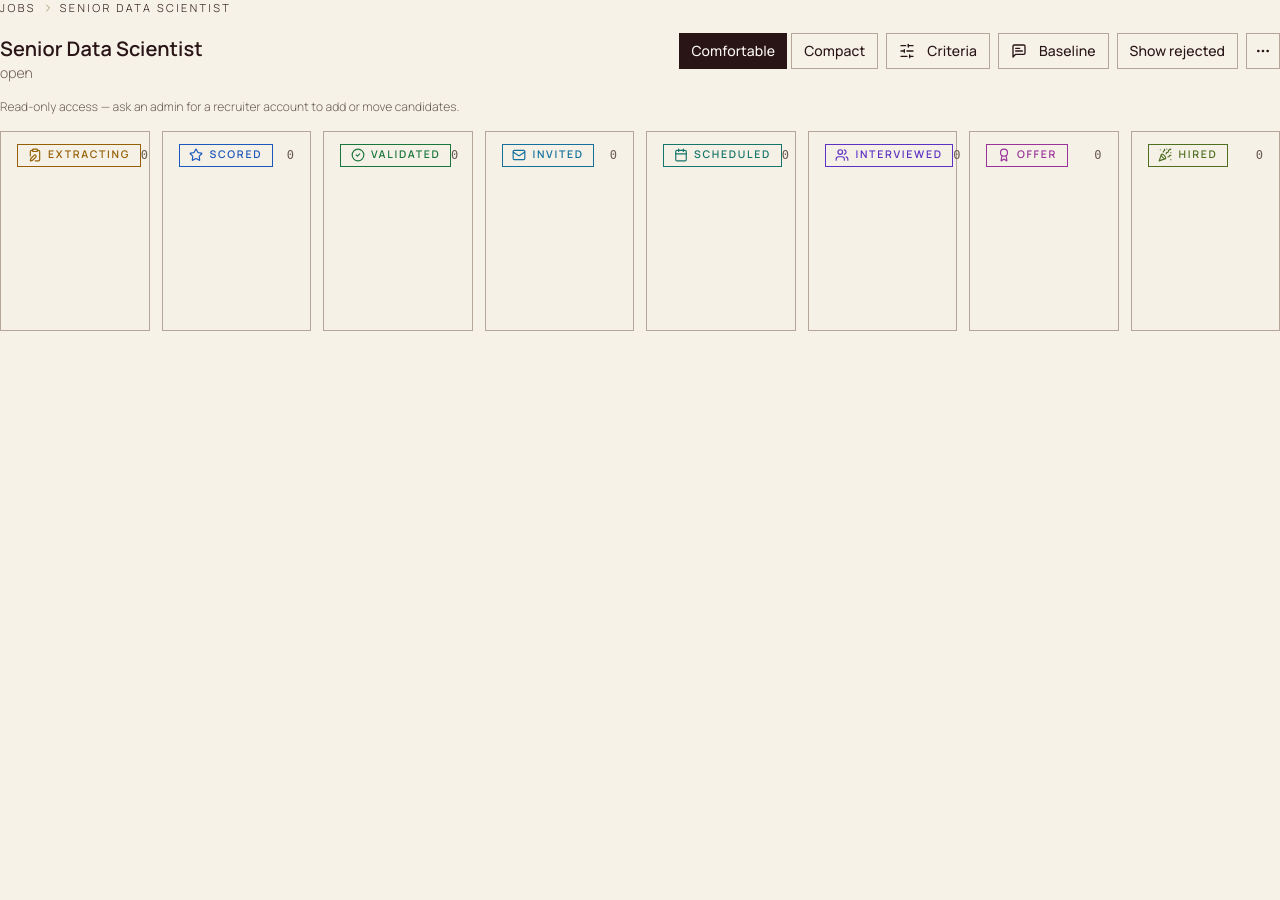
it: JobDetail write controls — criteria sheet › shows the criteria sheet read-only to a viewer, without Save, Suggest, or Add
Check: the heading "Senior Data Scientist" is shown, box [0,34,203,62]
Click the button "Criteria".
click(938, 50)  # box [886,32,990,68]
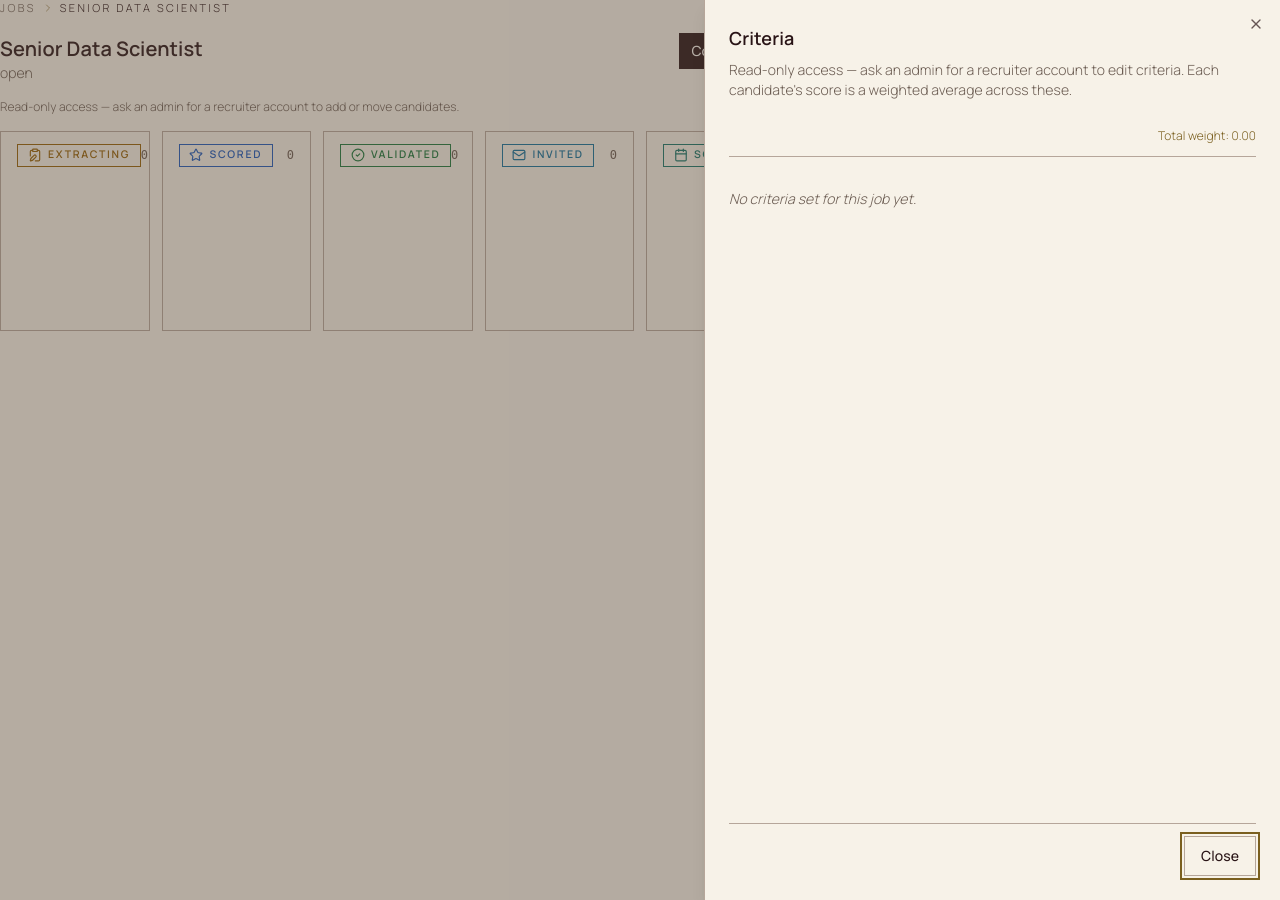
Check: the heading "Criteria" is shown, box [729,26,794,50]
